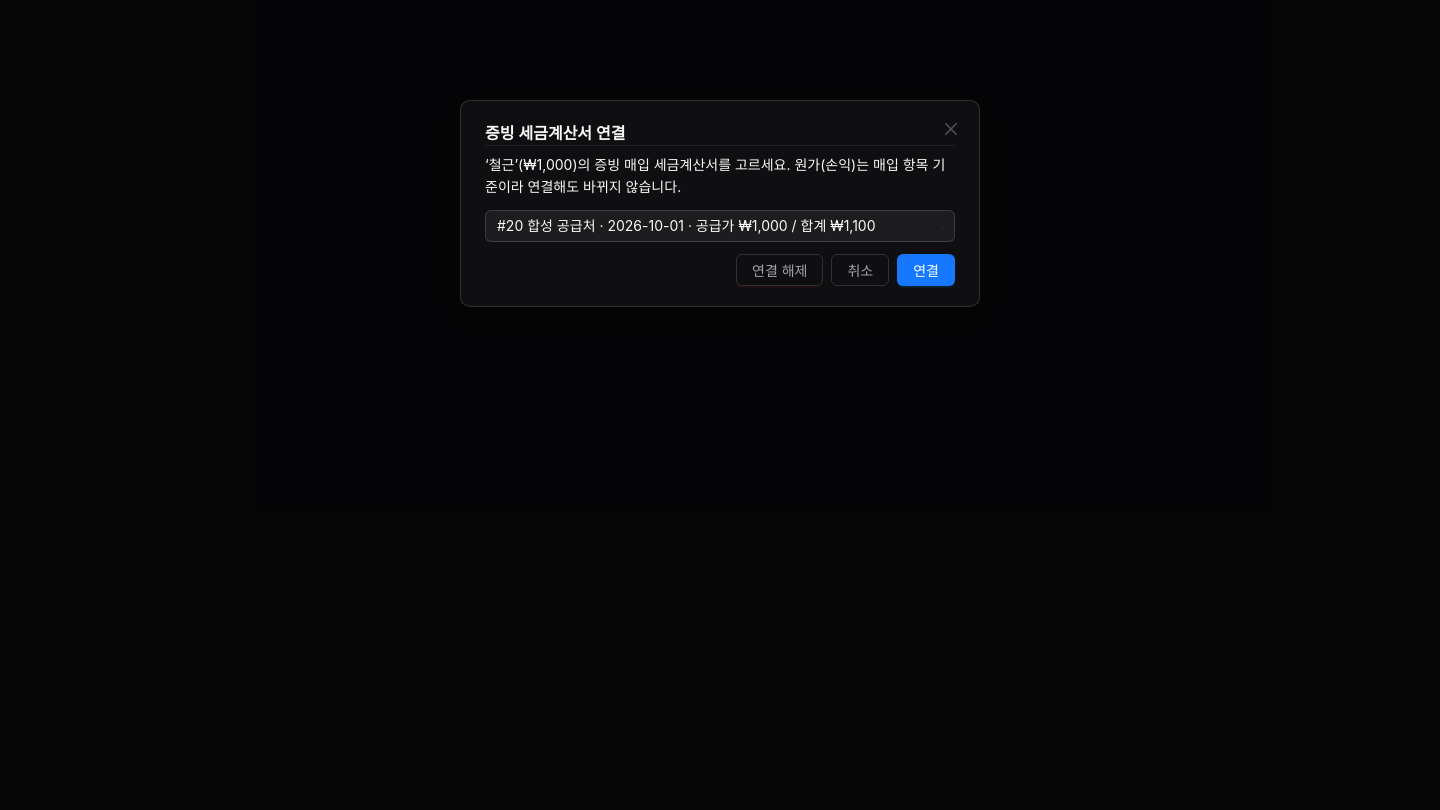
Test case: PurchaseEvidenceModal › 서버 거절 메시지를 그대로 보여주고 닫지 않는다
The width and height of the screenshot is (1440, 810).
Click the button "연결" at (926, 270), box [897, 254, 955, 286]
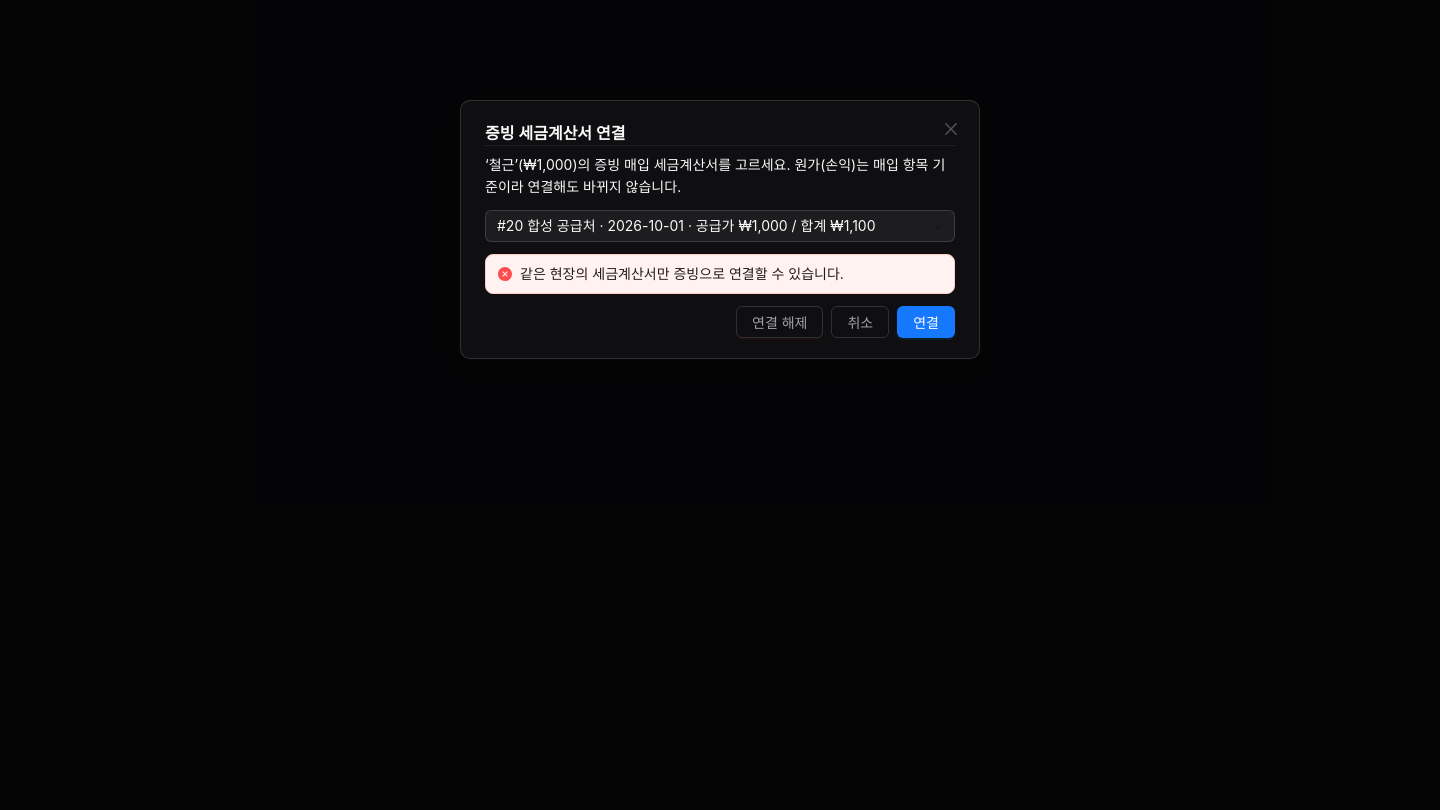
Now the text "같은 현장의 세금계산서만 증빙으로 연결할 수 있습니다." is shown, box [520, 265, 844, 282]
